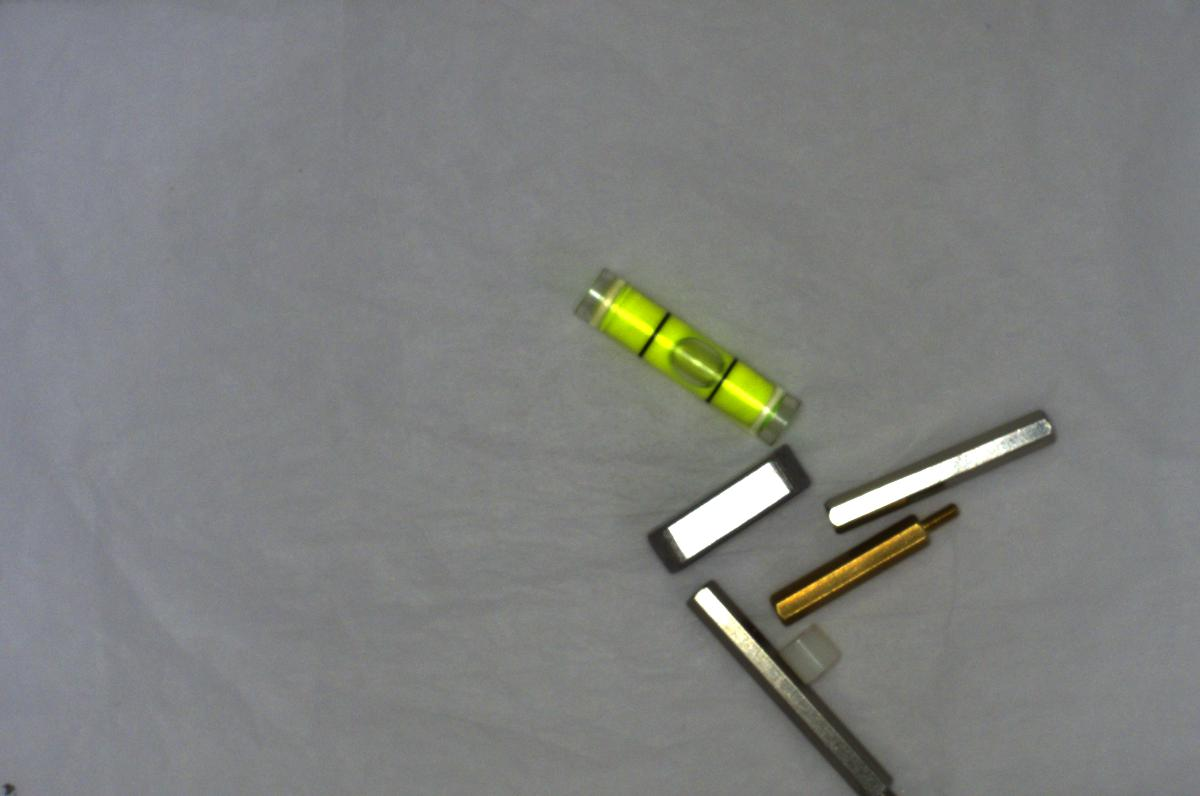Double hexagonal column: (823, 401, 1065, 530)
Hexagon pillar: (760, 496, 974, 627)
Hexagonal steel column: (678, 578, 908, 795)
Horizontal bubble: (560, 260, 816, 450)
Keybar: (646, 437, 817, 573)
Plastic cushion pillar: (775, 621, 850, 698)
